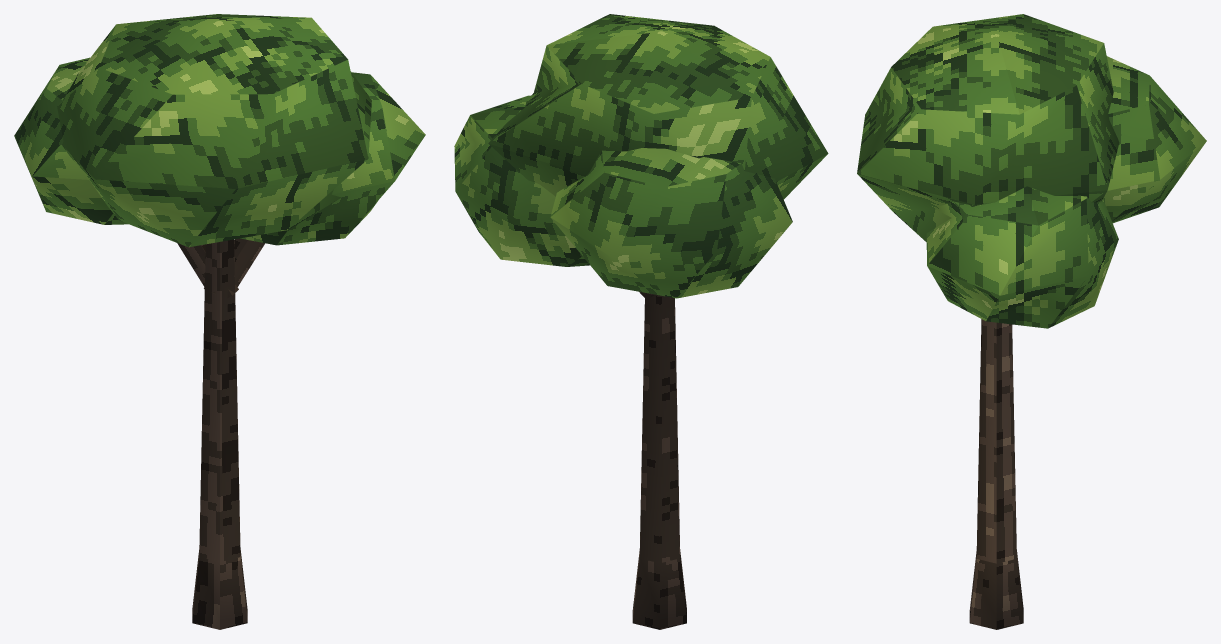
Rendered from mnat.oak__young.glb.
The picture shows the model from 3 angles, left to right: view 1: azimuth 30°, elevation 25°; view 2: azimuth 150°, elevation 25°; view 3: azimuth 270°, elevation 25°; orthographic projection. The views are drawn at different scales.
Visible parts, largest first — view 1: kit_crown, kit_trunk; view 2: kit_crown, kit_trunk; view 3: kit_crown, kit_trunk.
Part boxes in pixels (bbox=[...]): kit_crown: bbox=[14, 14, 425, 247]; kit_trunk: bbox=[177, 238, 264, 629]; kit_crown: bbox=[454, 14, 828, 298]; kit_trunk: bbox=[632, 291, 686, 629]; kit_crown: bbox=[857, 14, 1206, 328]; kit_trunk: bbox=[969, 319, 1023, 629].
Size of the model in its own units: 2.4 by 3.7 by 2.02.
2 materials, 2 textured.
